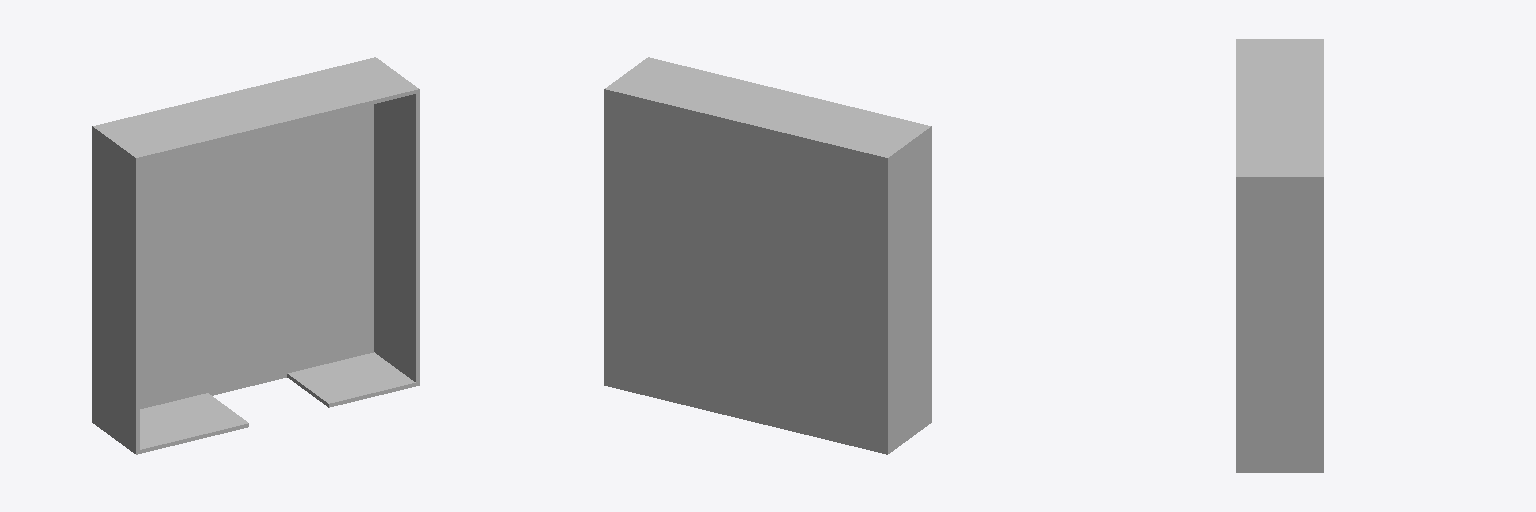
Rendered from Thing.obj.
3 views of the same model, side by side, from view 1: azimuth 30°, elevation 25°; view 2: azimuth 150°, elevation 25°; view 3: azimuth 270°, elevation 25° (orthographic).
Size of the model in its own units: 75 by 75 by 20.